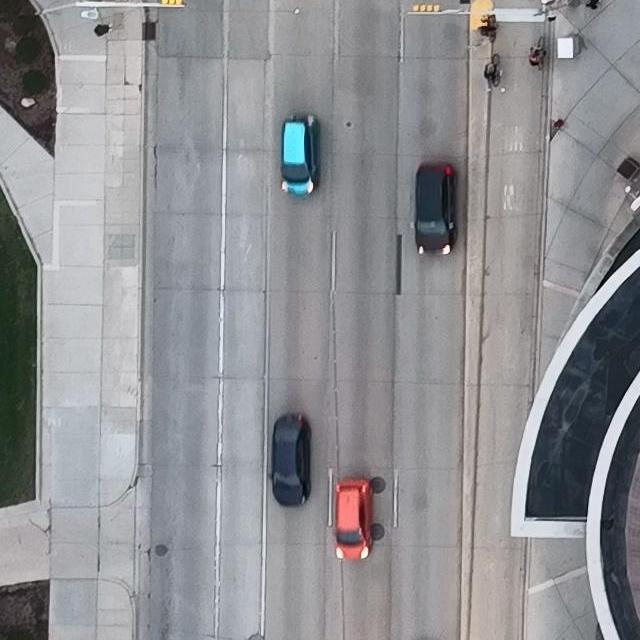car: (412, 160, 459, 255), (269, 413, 312, 506), (279, 115, 319, 197), (334, 477, 373, 561)
